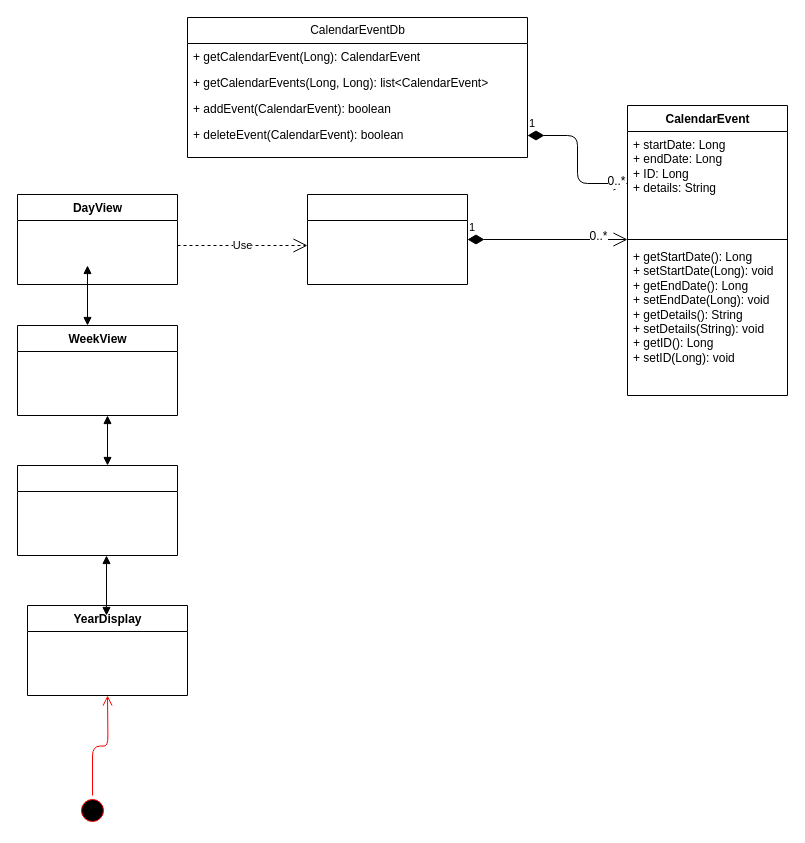
Image size: 805x843. Some labels were removed from this diagram. The centre of each missing label's shape, as x and y in pixels:
EventAdapter: (387,239)
MonthView: (97,510)
